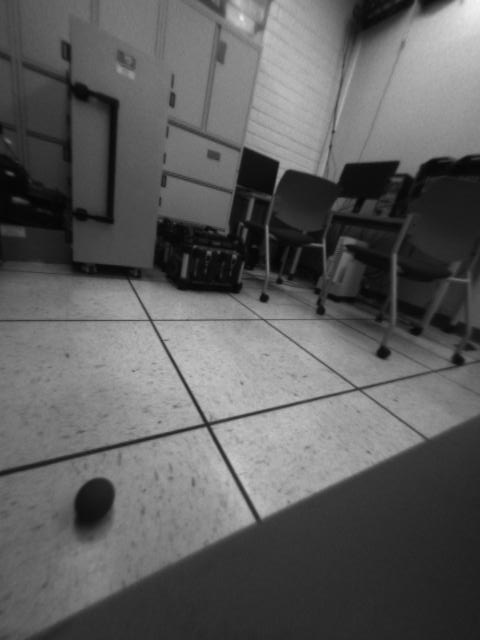dogtoy: (69, 471, 125, 532)
